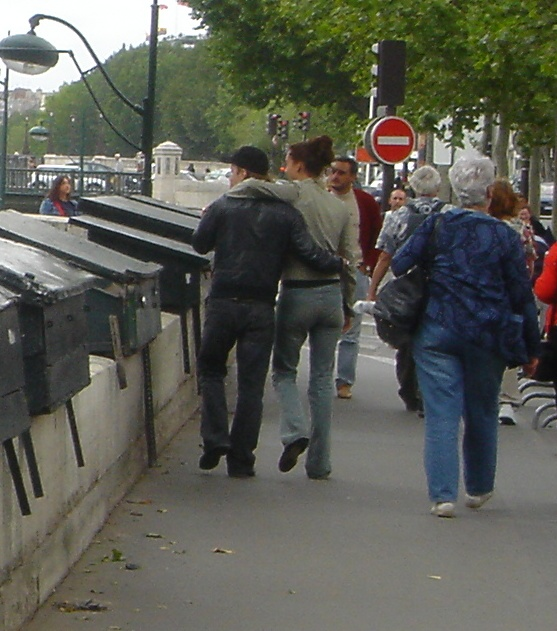person: (188, 142, 290, 477), (269, 141, 346, 482)
